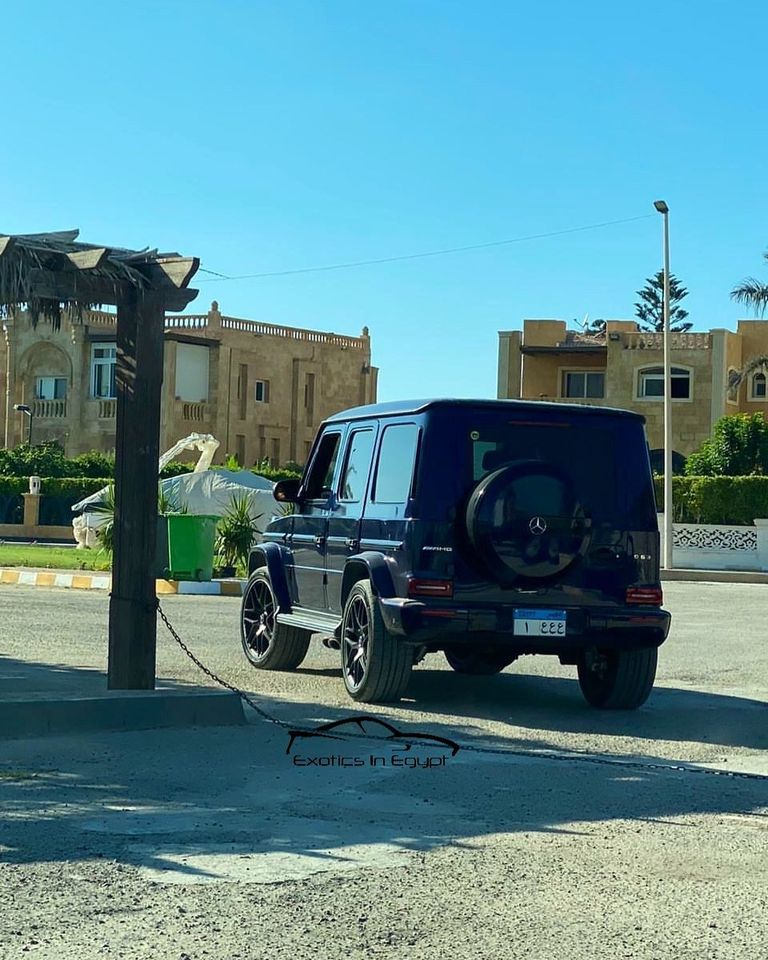carpl: (515, 611, 571, 639)
